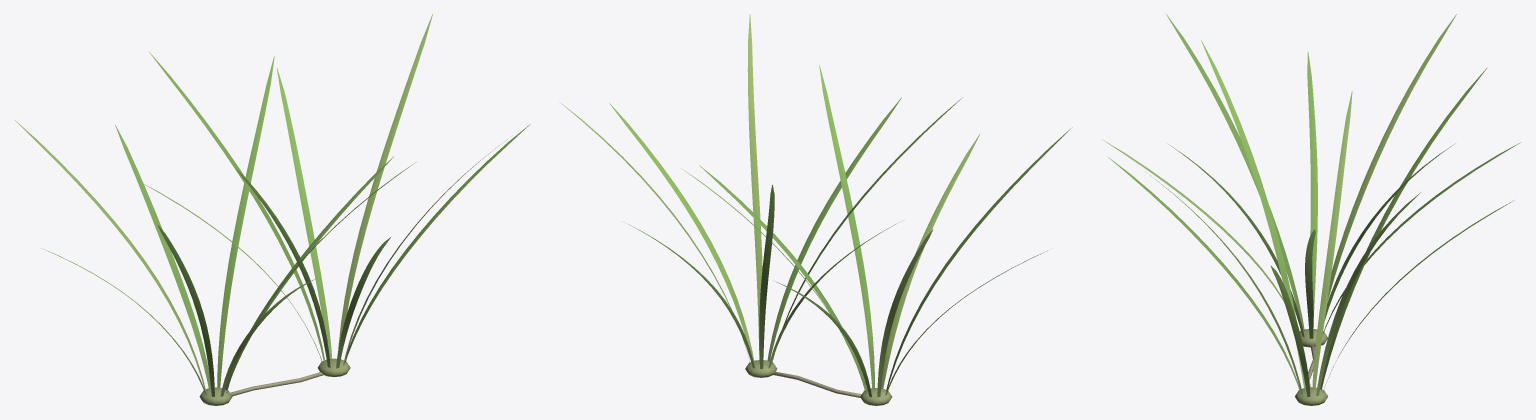
Rendered from american_wild_celery_hybrid.glb.
3 renders of one model, left to right at view 1: azimuth 30°, elevation 25°; view 2: azimuth 150°, elevation 25°; view 3: azimuth 270°, elevation 25°, orthographic. The views are drawn at different scales.
Visible parts, largest first — view 1: RibbonLeaf00_07, RibbonLeaf01_07, RibbonLeaf01_06, RibbonLeaf00_06, RibbonLeaf01_05, RibbonLeaf01_03, RibbonLeaf00_03, RibbonLeaf00_05, RibbonLeaf00_00, RibbonLeaf01_00, RibbonLeaf01_02, RibbonLeaf00_02; view 2: RibbonLeaf00_01, RibbonLeaf01_01, RibbonLeaf01_02, RibbonLeaf01_00, RibbonLeaf00_02, RibbonLeaf01_05, RibbonLeaf00_05, RibbonLeaf00_03, RibbonLeaf00_00, RibbonLeaf01_03, RibbonLeaf00_06, RibbonLeaf01_07 (+1 smaller); view 3: RibbonLeaf01_04, RibbonLeaf01_03, RibbonLeaf00_05, RibbonLeaf00_04, RibbonLeaf01_05, RibbonLeaf00_03, RibbonLeaf01_07, RibbonLeaf01_02, RibbonLeaf01_00, RibbonLeaf00_00, RibbonLeaf00_07, RibbonLeaf00_01 (+5 smaller).
Boxes of the visible parts, x1,y1,x2,y2 form: RibbonLeaf00_07: [217, 56, 274, 387]; RibbonLeaf01_07: [338, 14, 432, 348]; RibbonLeaf01_06: [277, 68, 331, 358]; RibbonLeaf00_06: [115, 125, 210, 388]; RibbonLeaf01_05: [149, 52, 325, 361]; RibbonLeaf01_03: [235, 168, 330, 367]; RibbonLeaf00_03: [158, 225, 214, 396]; RibbonLeaf00_05: [15, 120, 205, 390]; RibbonLeaf00_00: [225, 156, 393, 390]; RibbonLeaf01_00: [345, 124, 530, 362]; RibbonLeaf01_02: [336, 237, 390, 368]; RibbonLeaf00_02: [220, 279, 314, 396]; RibbonLeaf00_01: [819, 65, 874, 388]; RibbonLeaf01_01: [747, 14, 762, 359]; RibbonLeaf01_02: [767, 97, 901, 361]; RibbonLeaf01_00: [609, 103, 754, 360]; RibbonLeaf00_02: [881, 134, 979, 388]; RibbonLeaf01_05: [759, 185, 774, 368]; RibbonLeaf00_05: [877, 229, 932, 397]; RibbonLeaf00_03: [886, 127, 1072, 390]; RibbonLeaf00_00: [699, 165, 867, 390]; RibbonLeaf01_03: [771, 97, 962, 363]; RibbonLeaf00_06: [775, 281, 871, 396]; RibbonLeaf01_07: [560, 102, 750, 362]; RibbonLeaf01_04: [1312, 91, 1352, 387]; RibbonLeaf01_03: [1201, 40, 1305, 388]; RibbonLeaf00_05: [1327, 14, 1456, 302]; RibbonLeaf00_04: [1307, 52, 1317, 316]; RibbonLeaf01_05: [1320, 67, 1487, 389]; RibbonLeaf00_03: [1166, 14, 1304, 330]; RibbonLeaf01_07: [1316, 192, 1421, 395]; RibbonLeaf01_02: [1107, 156, 1300, 391]; RibbonLeaf01_00: [1270, 265, 1310, 396]; RibbonLeaf00_00: [1305, 229, 1315, 338]; RibbonLeaf00_07: [1324, 143, 1455, 320]; RibbonLeaf00_01: [1167, 143, 1304, 337].
Size of the model in its own units: 0.9236 by 0.5271 by 0.7.
